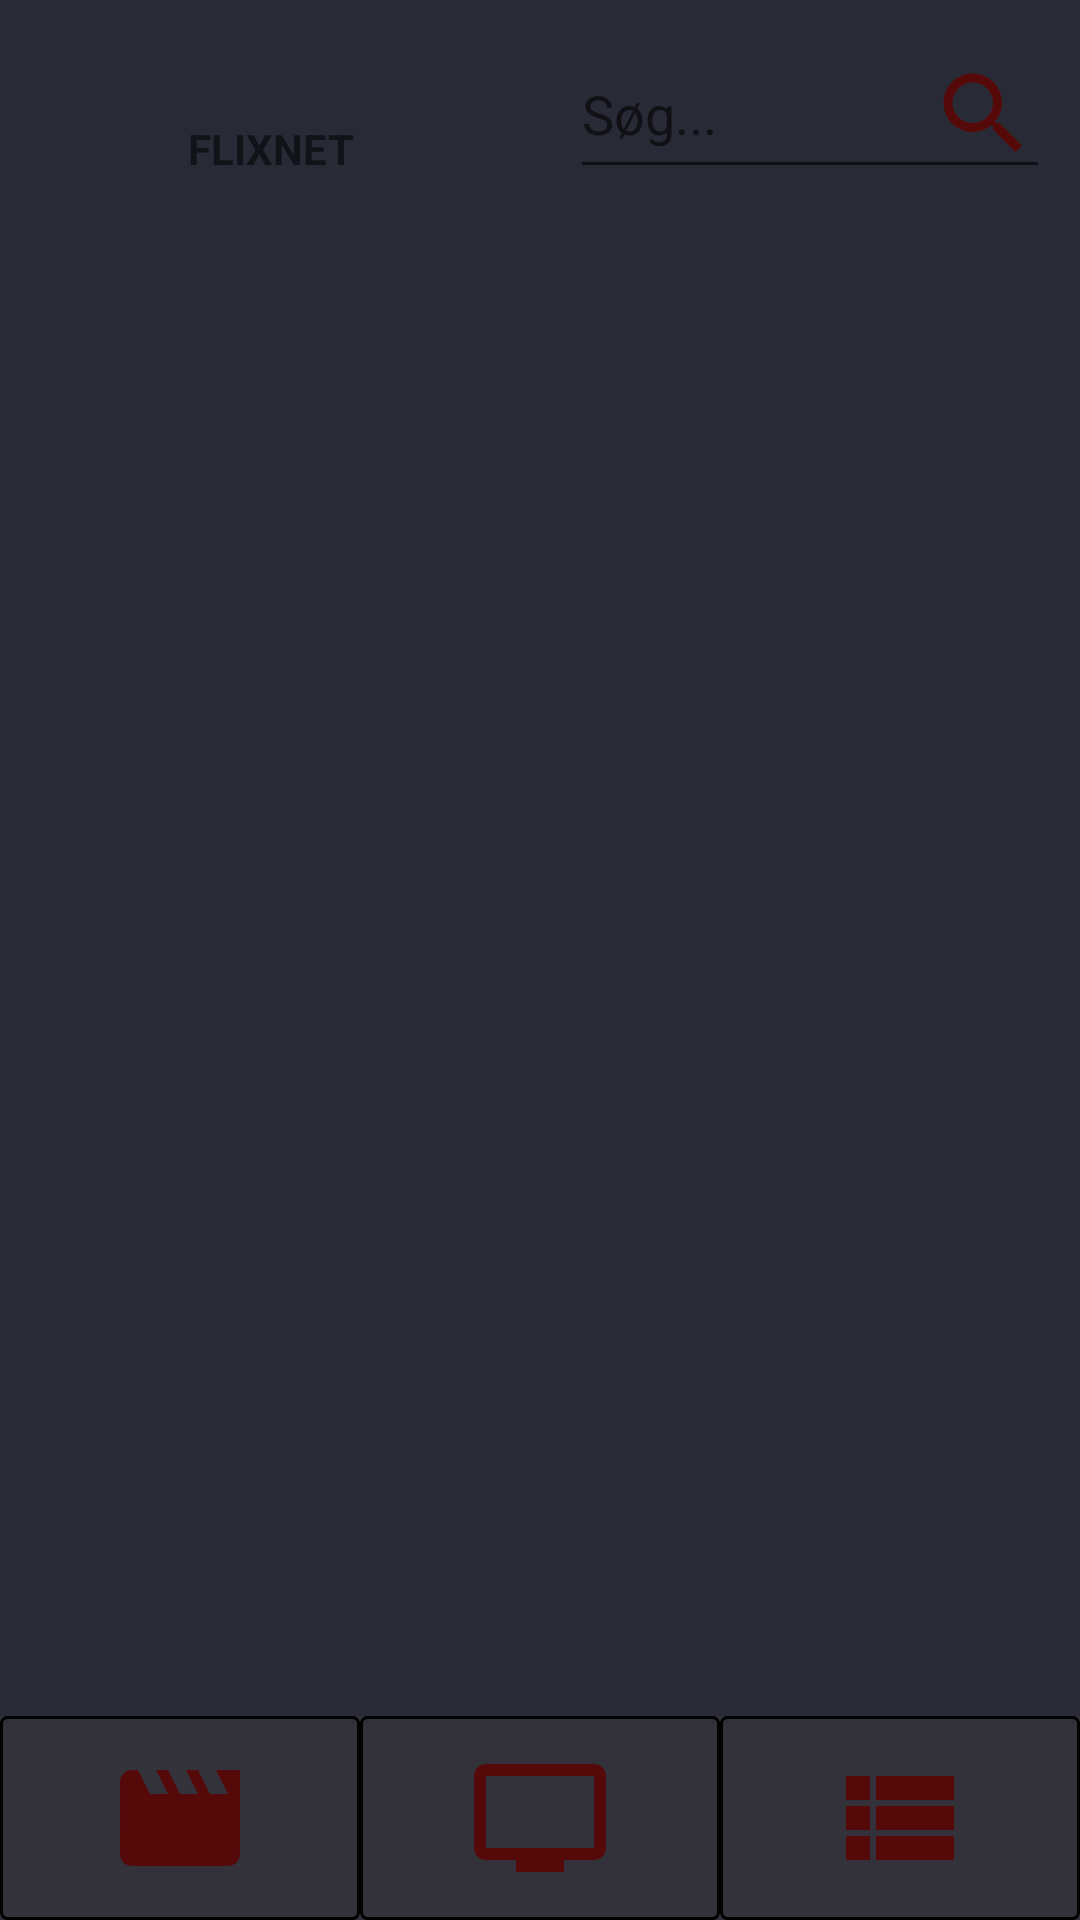

Icon click points for this 1080 × 1920 phone screenshot, format point (x, y):
movie: point (180, 1818)
view list: point (900, 1818)
